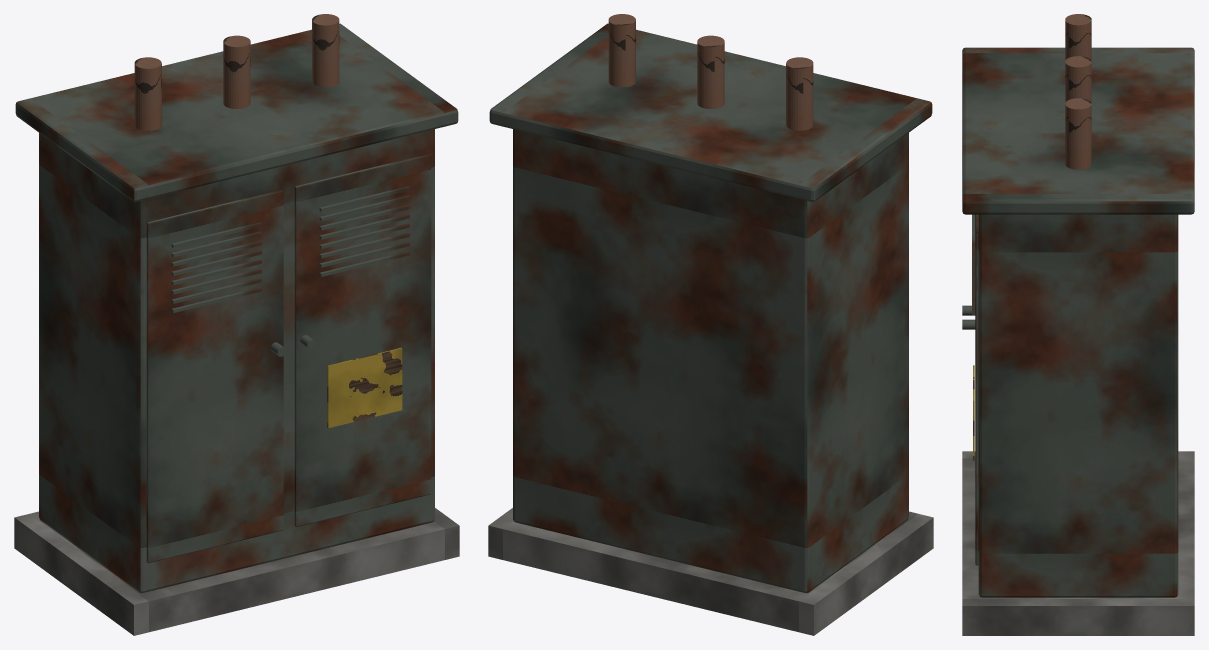
The model's file is R20_TransformerBox.glb.
The picture shows the model from 3 angles, left to right: view 1: azimuth 30°, elevation 25°; view 2: azimuth 150°, elevation 25°; view 3: azimuth 270°, elevation 25°; orthographic projection. The views are drawn at different scales.
Parts seen in each view (by area): view 1: R20_TransformerBox; view 2: R20_TransformerBox; view 3: R20_TransformerBox.
Part boxes in pixels (x1,y1,x2,y2): R20_TransformerBox: [14, 14, 459, 635]; R20_TransformerBox: [488, 14, 933, 635]; R20_TransformerBox: [962, 14, 1194, 635].
Size of the model in its own units: 1 by 1.5 by 0.6364.
Materials: 4 (4 with a texture image).
